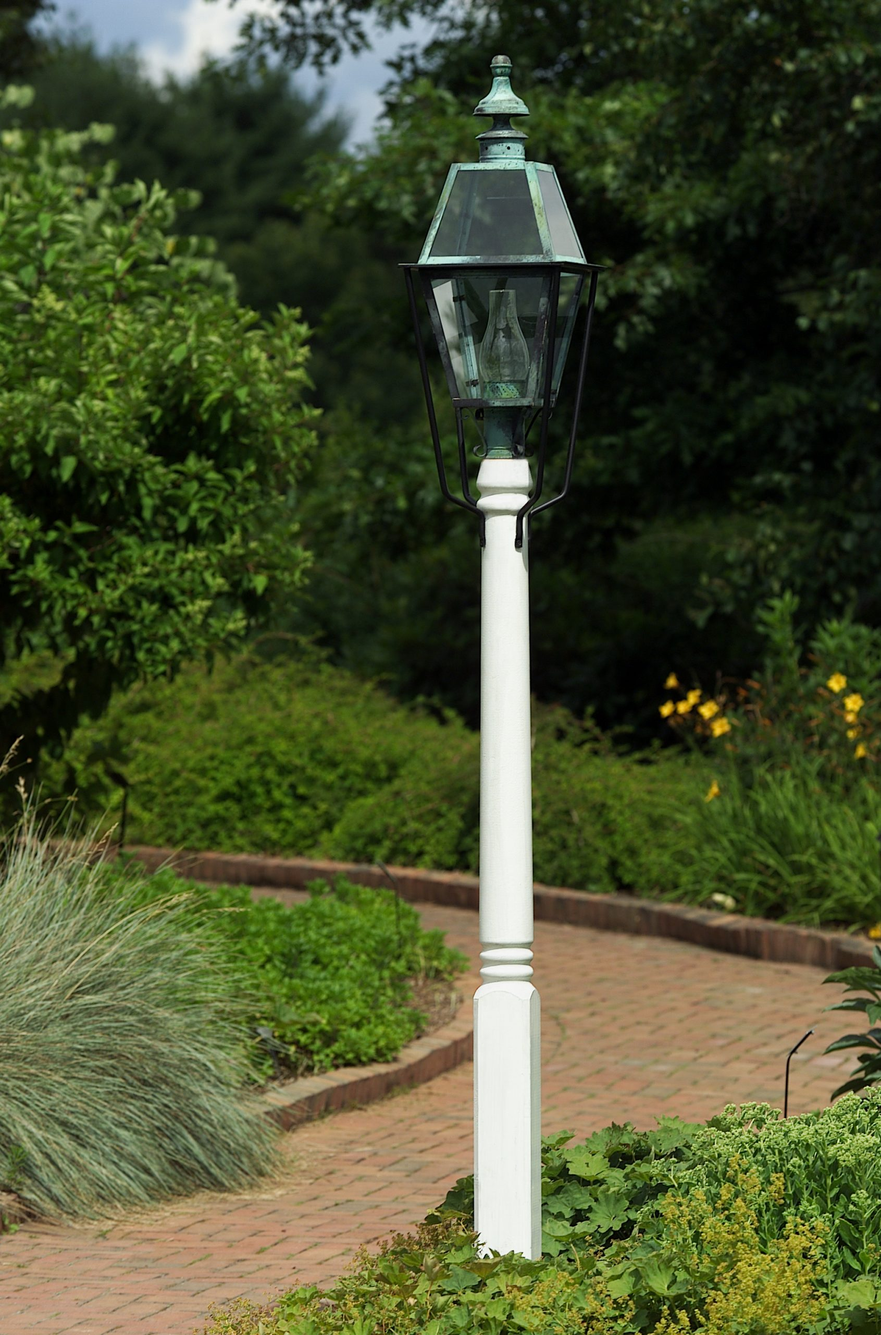light_pole: (411, 148, 597, 1282)
